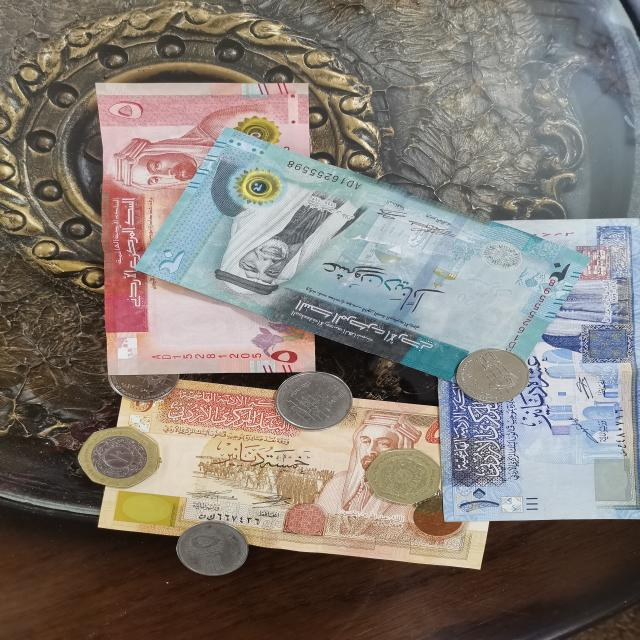10-coins: (268, 369, 362, 434)
10-dinar: (440, 218, 640, 520)
20-dinar: (128, 126, 595, 400)
25-coins: (356, 445, 450, 510)
5-coins: (169, 518, 257, 580), (100, 344, 184, 406), (452, 345, 537, 403)
5-dinar: (88, 374, 508, 570), (90, 80, 316, 377)
50-coins: (70, 422, 166, 493)
